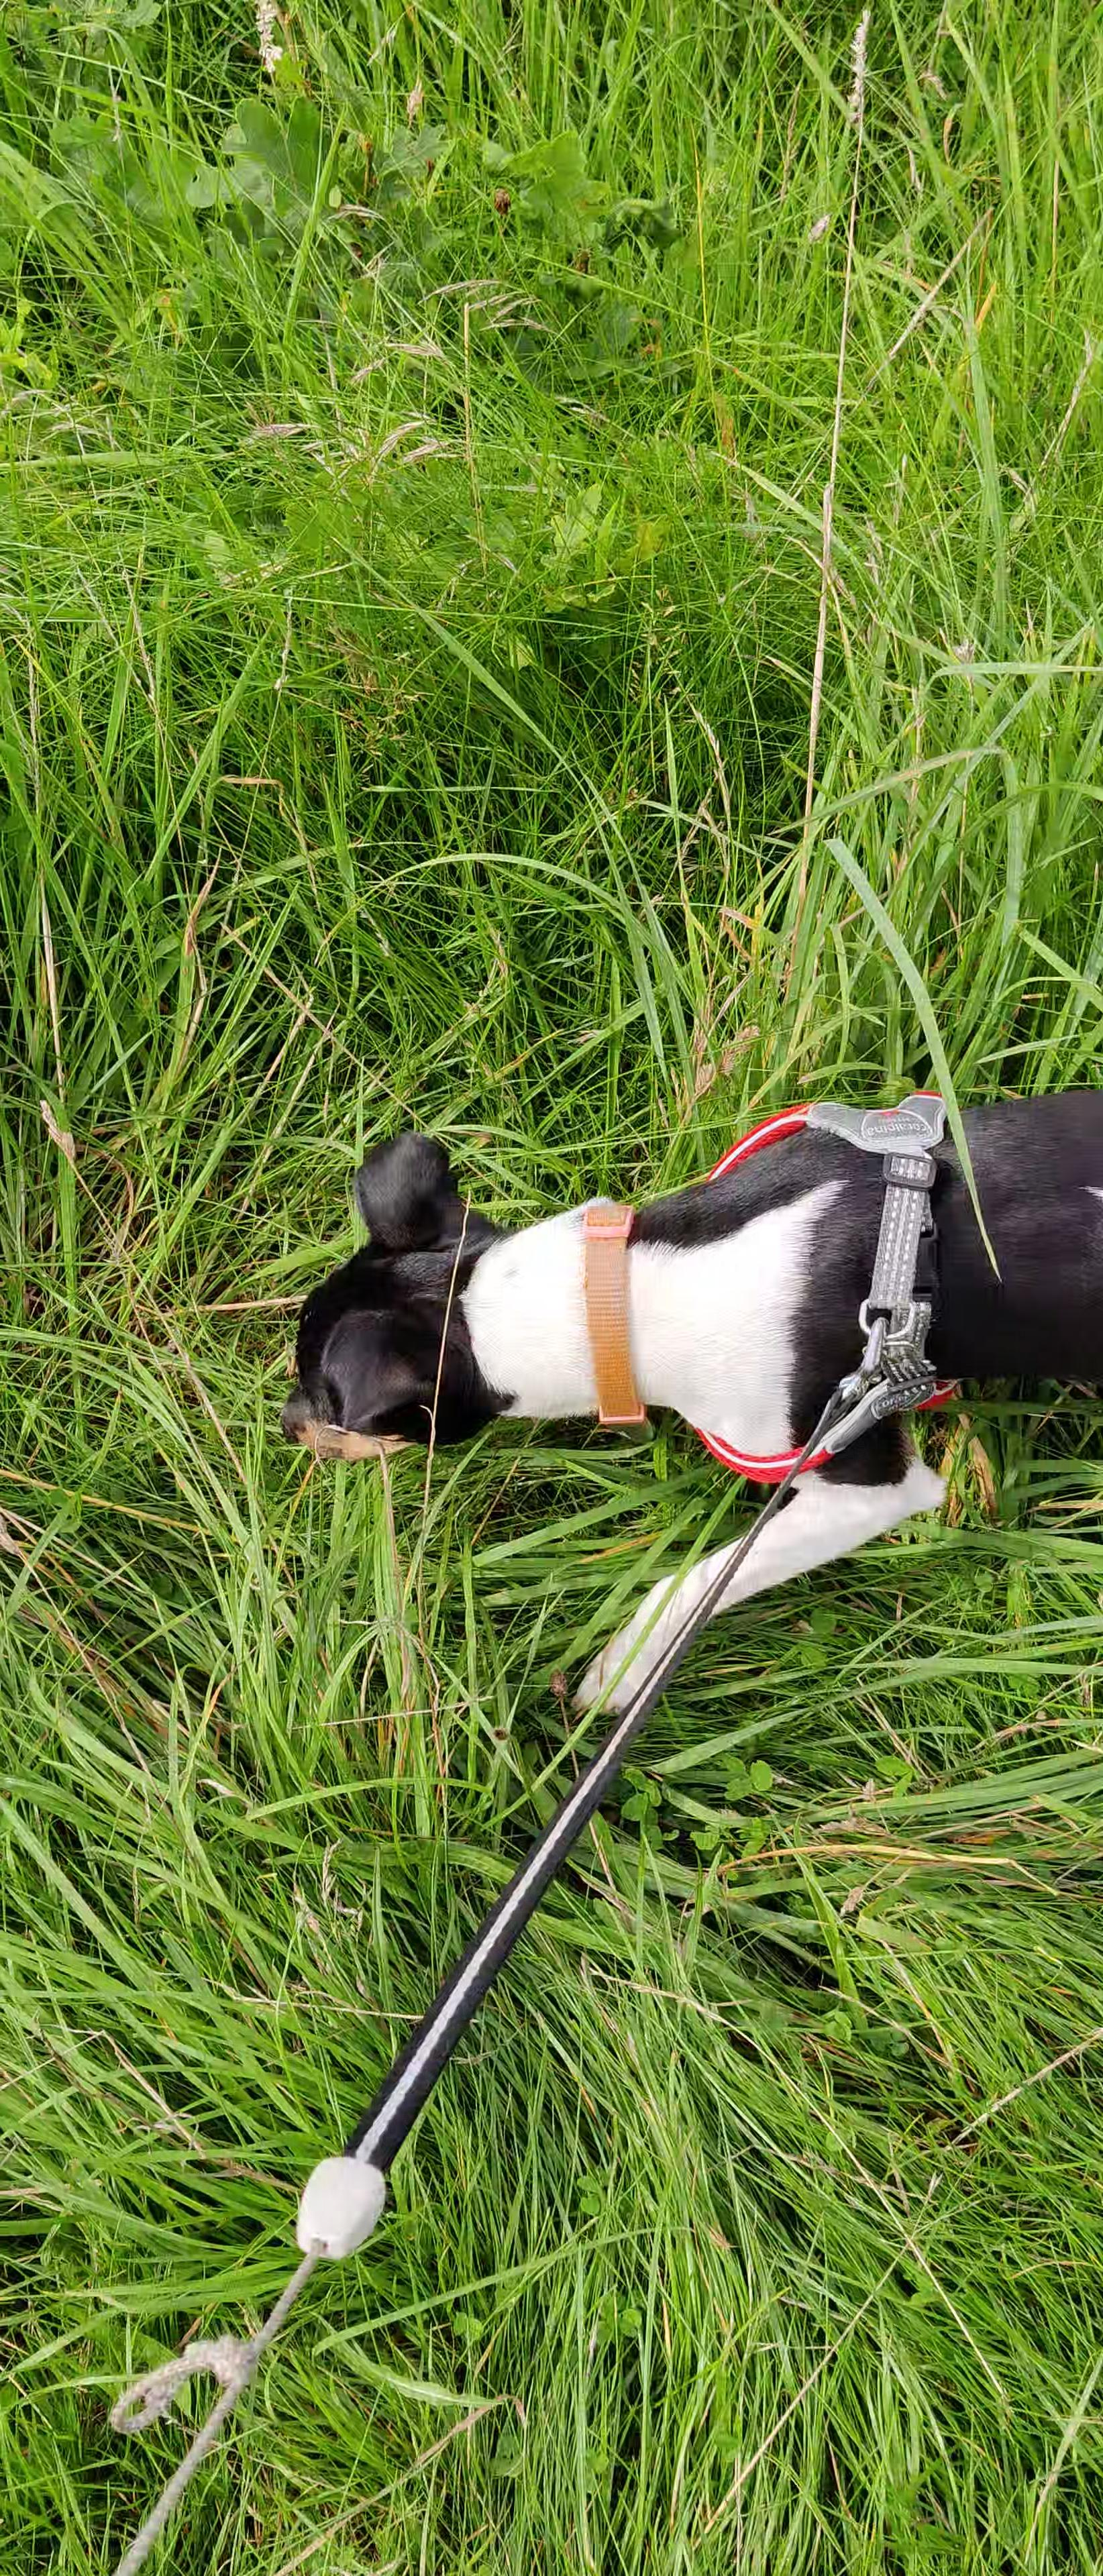Dog: (248, 1066, 1103, 1720)
